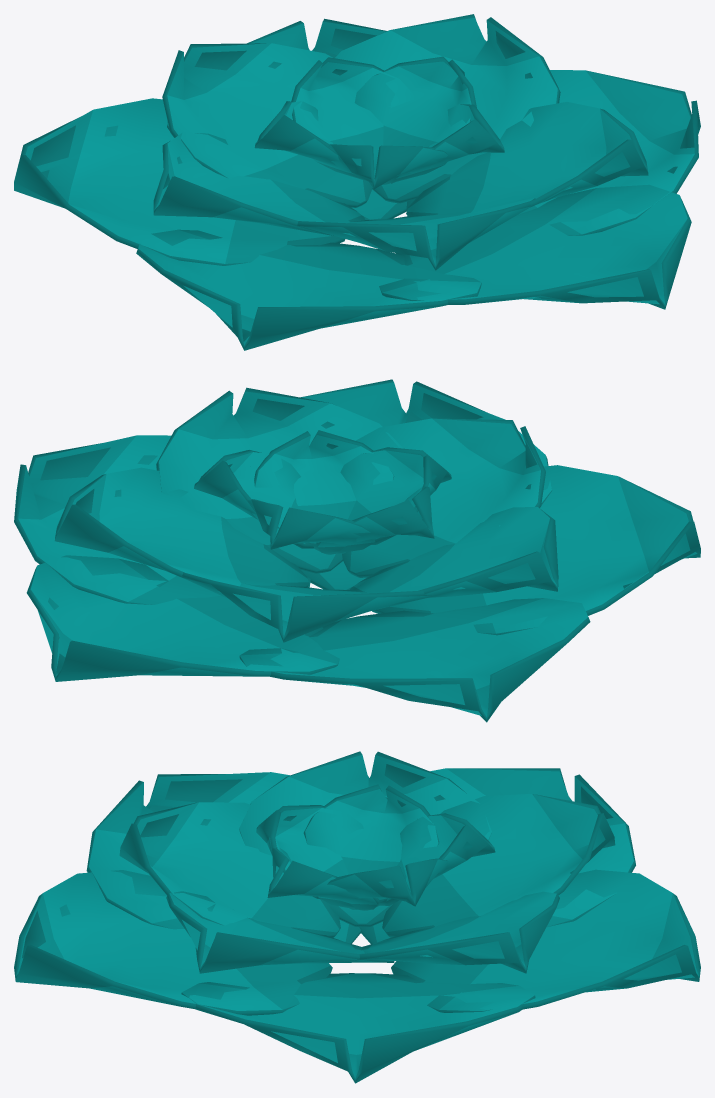
Rendered from garden-rose-bloom-head-2-069494.glb.
The picture shows the model from 3 angles, top to bottom: view 1: azimuth 30°, elevation 25°; view 2: azimuth 150°, elevation 25°; view 3: azimuth 270°, elevation 25°; orthographic projection. The views are drawn at different scales.
Parts seen in each view (by area): view 1: rose-bloom-head-2-069494; view 2: rose-bloom-head-2-069494; view 3: rose-bloom-head-2-069494.
Part boxes in pixels (left/top/right/bottom): rose-bloom-head-2-069494: left=14, top=14, right=700, bottom=350; rose-bloom-head-2-069494: left=14, top=379, right=700, bottom=722; rose-bloom-head-2-069494: left=14, top=751, right=700, bottom=1083.
Bounding box in the file's own units: 0.1716 × 0.0402 × 0.1783.
